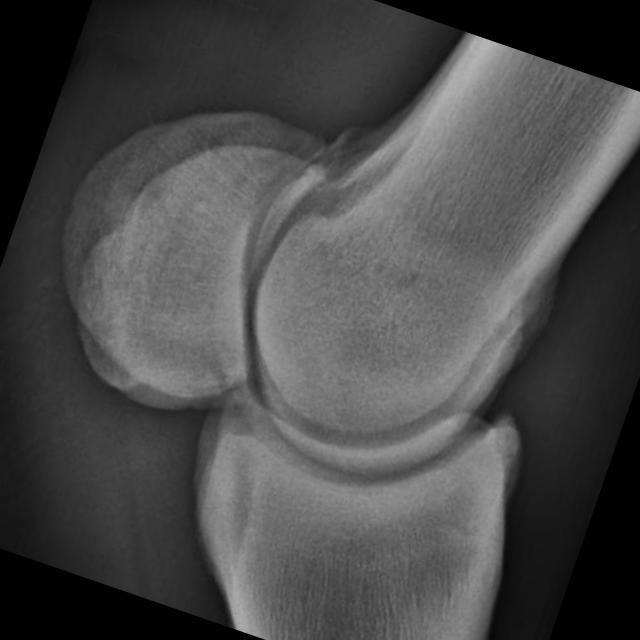bone remodeling: (504, 257, 592, 364), (476, 396, 553, 487)
